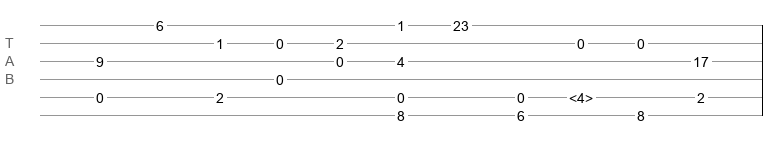0: (96, 90, 104, 100), (276, 36, 284, 46), (276, 72, 284, 82), (336, 54, 344, 64), (397, 90, 405, 100), (517, 90, 525, 100), (577, 36, 585, 46), (637, 36, 645, 46)
1: (216, 36, 224, 46), (397, 18, 405, 28)
17: (693, 54, 709, 64)
2: (216, 90, 224, 100), (336, 36, 344, 46), (697, 90, 705, 100)
23: (453, 18, 469, 28)
4: (397, 54, 405, 64)
6: (156, 18, 164, 28), (517, 108, 525, 118)
8: (397, 108, 405, 118), (637, 108, 645, 118)
9: (96, 54, 104, 64)
harmonic: (569, 90, 593, 100)
